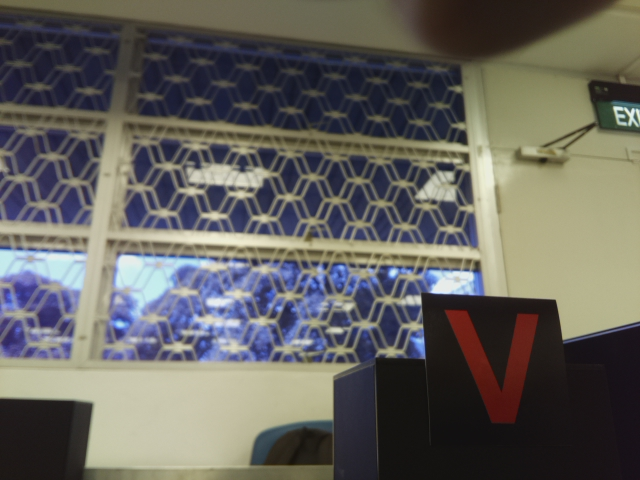v: (440, 306, 552, 430)
